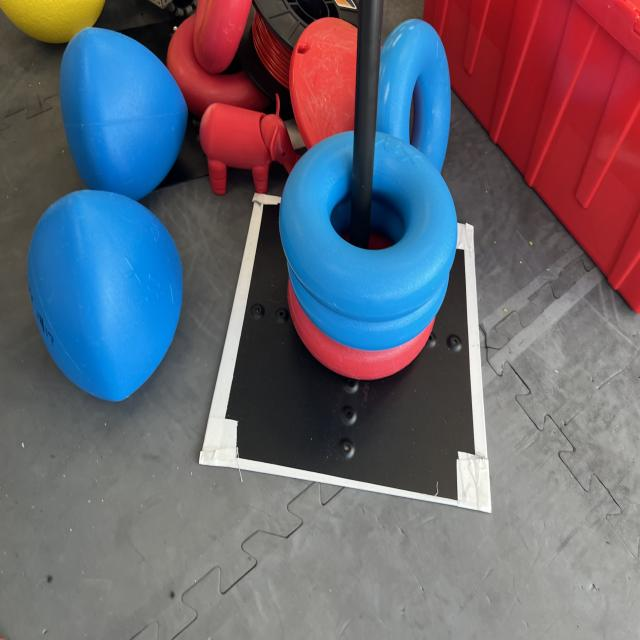Blue-Ring: (280, 132, 458, 320), (288, 262, 449, 350), (376, 20, 450, 172)
Red-Ring: (288, 278, 435, 380), (166, 15, 270, 117), (194, 0, 251, 73)
